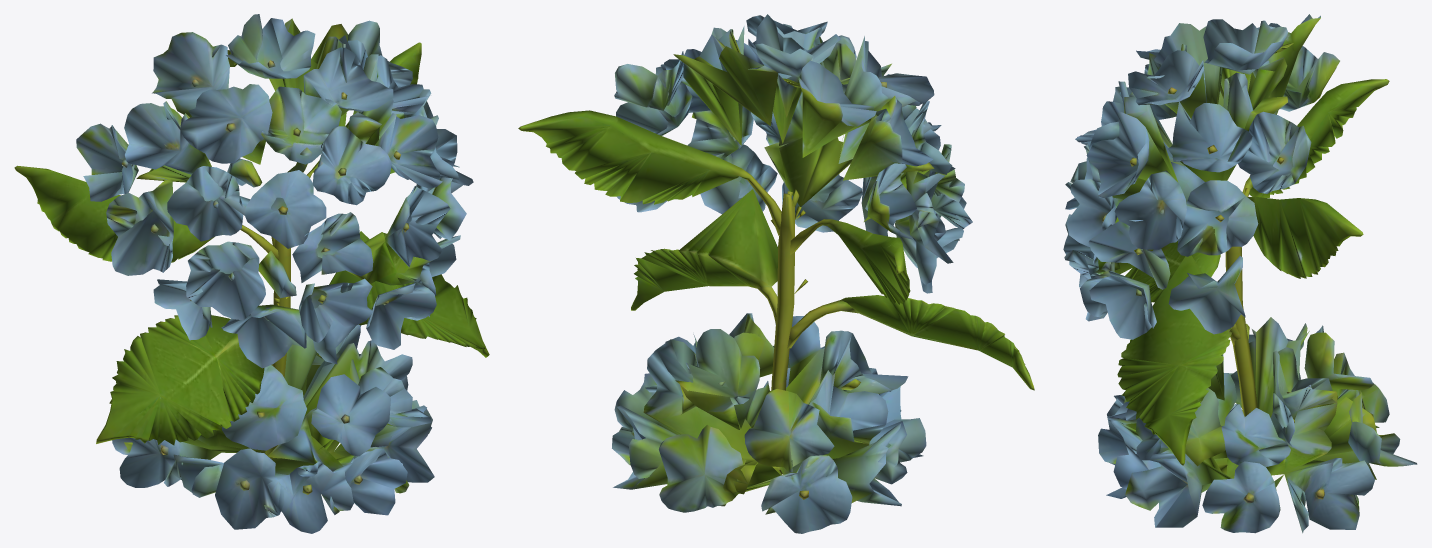
File: anna-hydrangea.glb
The picture shows the model from 3 angles, left to right: view 1: azimuth 30°, elevation 25°; view 2: azimuth 150°, elevation 25°; view 3: azimuth 270°, elevation 25°; orthographic projection.
Parts seen in each view (by area): view 1: tripo_node_67f0e812-eb5d-42e4-beeb-c5fea14c3f0c; view 2: tripo_node_67f0e812-eb5d-42e4-beeb-c5fea14c3f0c; view 3: tripo_node_67f0e812-eb5d-42e4-beeb-c5fea14c3f0c.
Part boxes in pixels (left/top/right/bottom): tripo_node_67f0e812-eb5d-42e4-beeb-c5fea14c3f0c: left=14, top=14, right=489, bottom=533; tripo_node_67f0e812-eb5d-42e4-beeb-c5fea14c3f0c: left=518, top=14, right=1034, bottom=533; tripo_node_67f0e812-eb5d-42e4-beeb-c5fea14c3f0c: left=1063, top=14, right=1417, bottom=533.
Size of the model in its own units: 0.9825 by 0.998 by 0.7168.
Materials: 1 (1 with a texture image).
